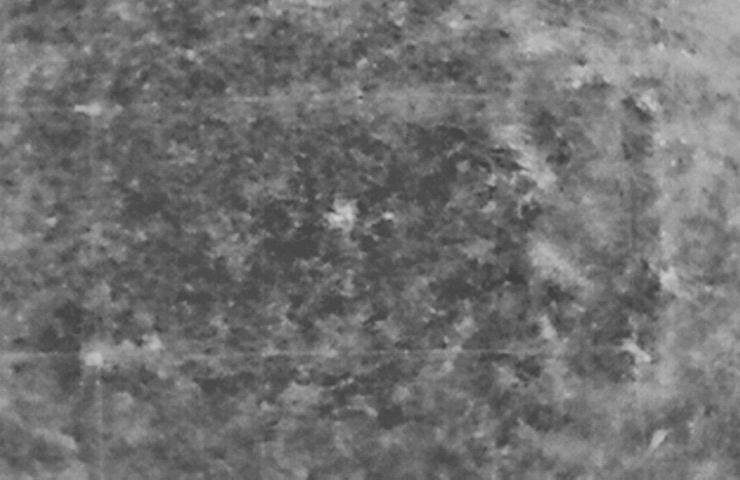landmines: (324, 196, 360, 234)
